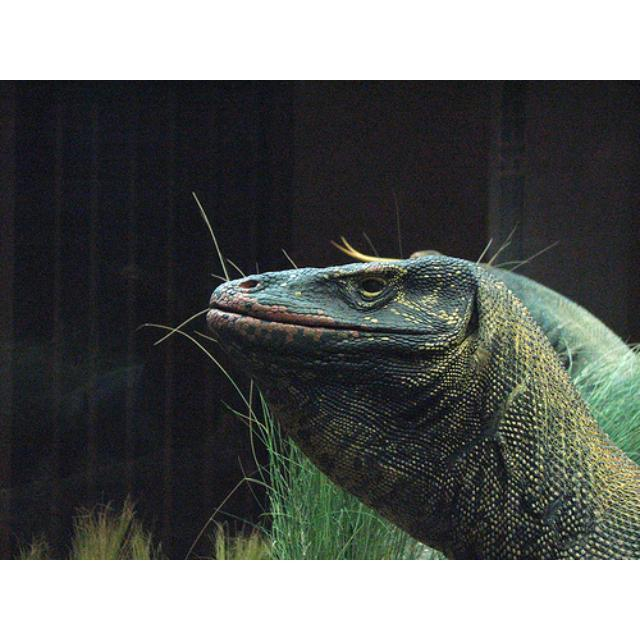KomodoDragon: (204, 247, 637, 558)
